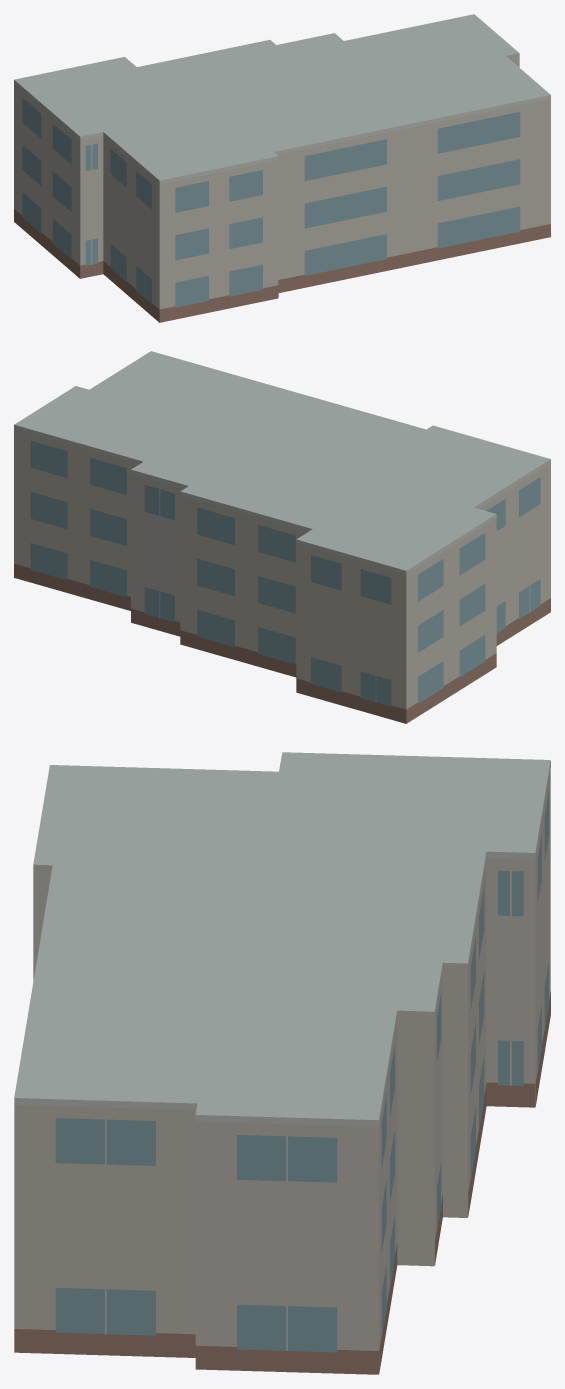
Rendered from survey-upis-32841338.glb.
The picture shows the model from 3 angles, top to bottom: view 1: azimuth 30°, elevation 25°; view 2: azimuth 150°, elevation 25°; view 3: azimuth 270°, elevation 25°; orthographic projection. The views are drawn at different scales.
Visible parts, largest first — view 1: survey-upis-32841338.tmp; view 2: survey-upis-32841338.tmp; view 3: survey-upis-32841338.tmp.
Part boxes in pixels (<box>): survey-upis-32841338.tmp: <box>14,14,550,322</box>; survey-upis-32841338.tmp: <box>14,351,550,723</box>; survey-upis-32841338.tmp: <box>14,752,550,1374</box>.
Bounding box in the file's own units: 28.38 × 9.15 × 17.49.
